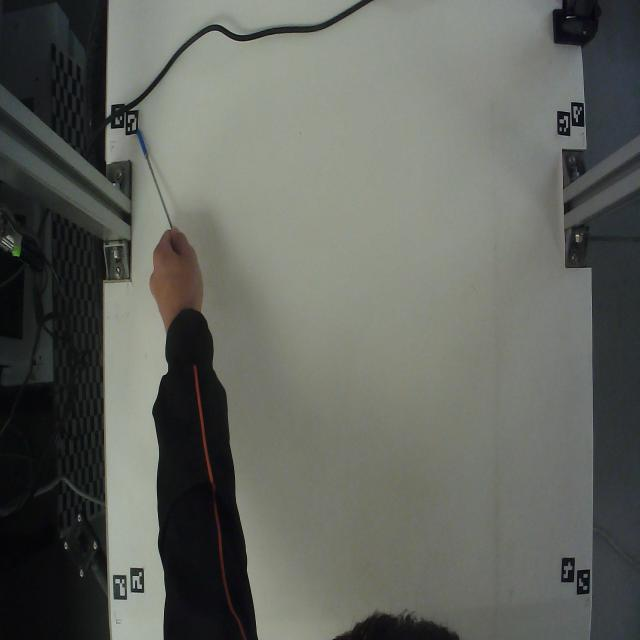Pres: (135, 124, 175, 232)
